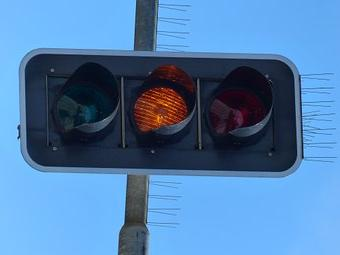trafic: (34, 59, 278, 157)
